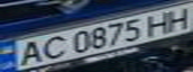0: (69, 28, 93, 55)
5: (121, 16, 151, 43)
7: (106, 20, 130, 47)
8: (87, 25, 112, 51)
A: (12, 38, 48, 68)
C: (36, 34, 69, 61)
H: (139, 10, 178, 36), (160, 6, 193, 31)
